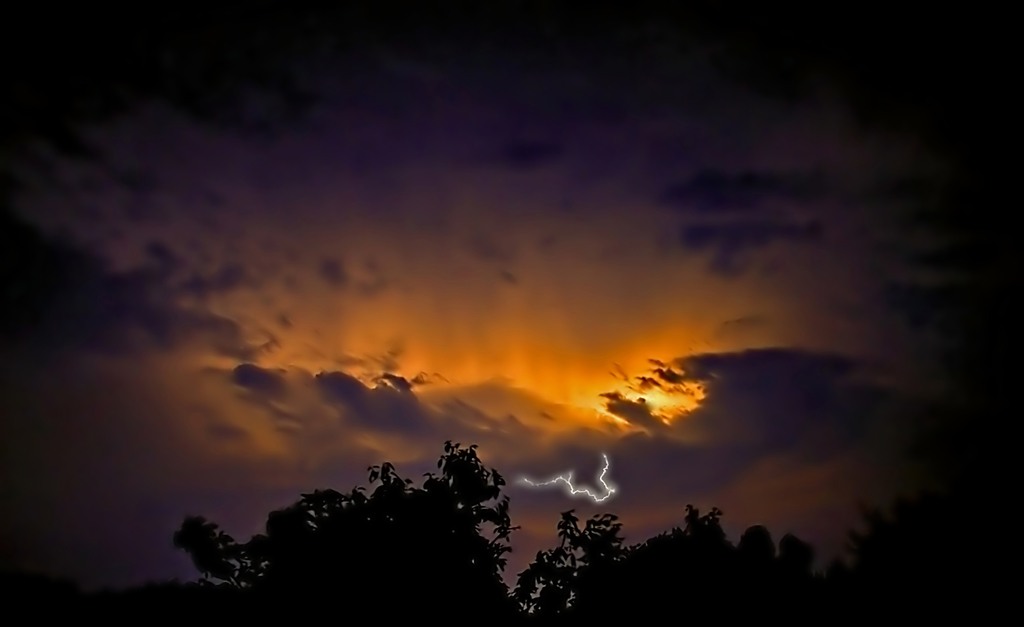Tree: (0, 442, 1024, 627)
